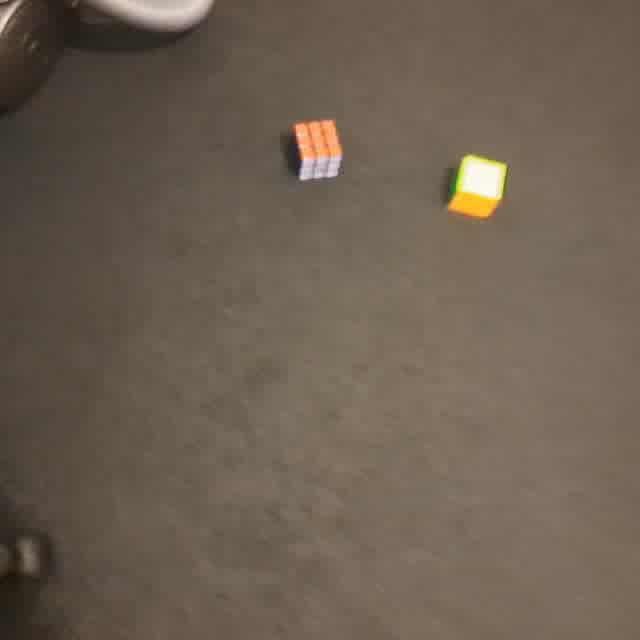rubix_cube: (445, 152, 508, 220), (286, 117, 347, 183)
